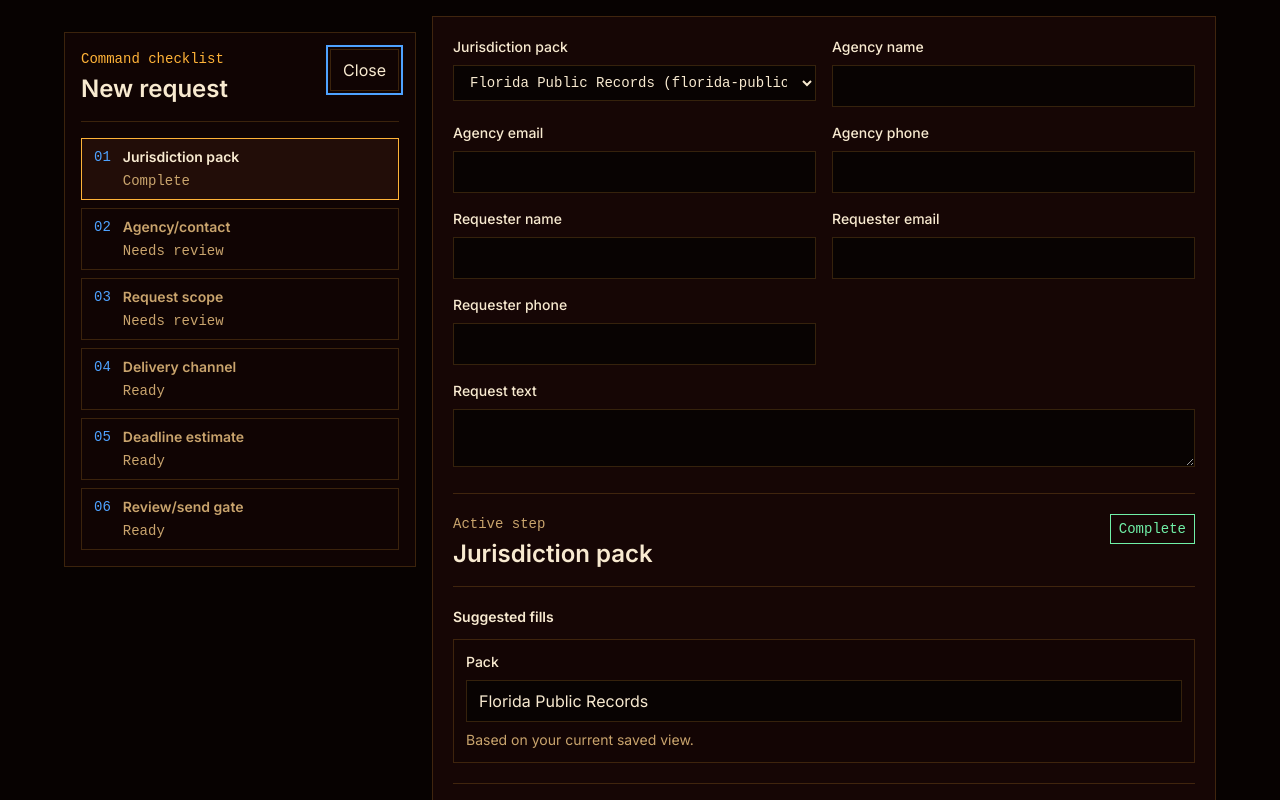
Scenario: RequestBuilder › keeps edited suggested fills when switching away from a step
Replace the text in the field named "Pack suggestion" with "US Federal FOIA": (824, 701) [466,680,1182,722]
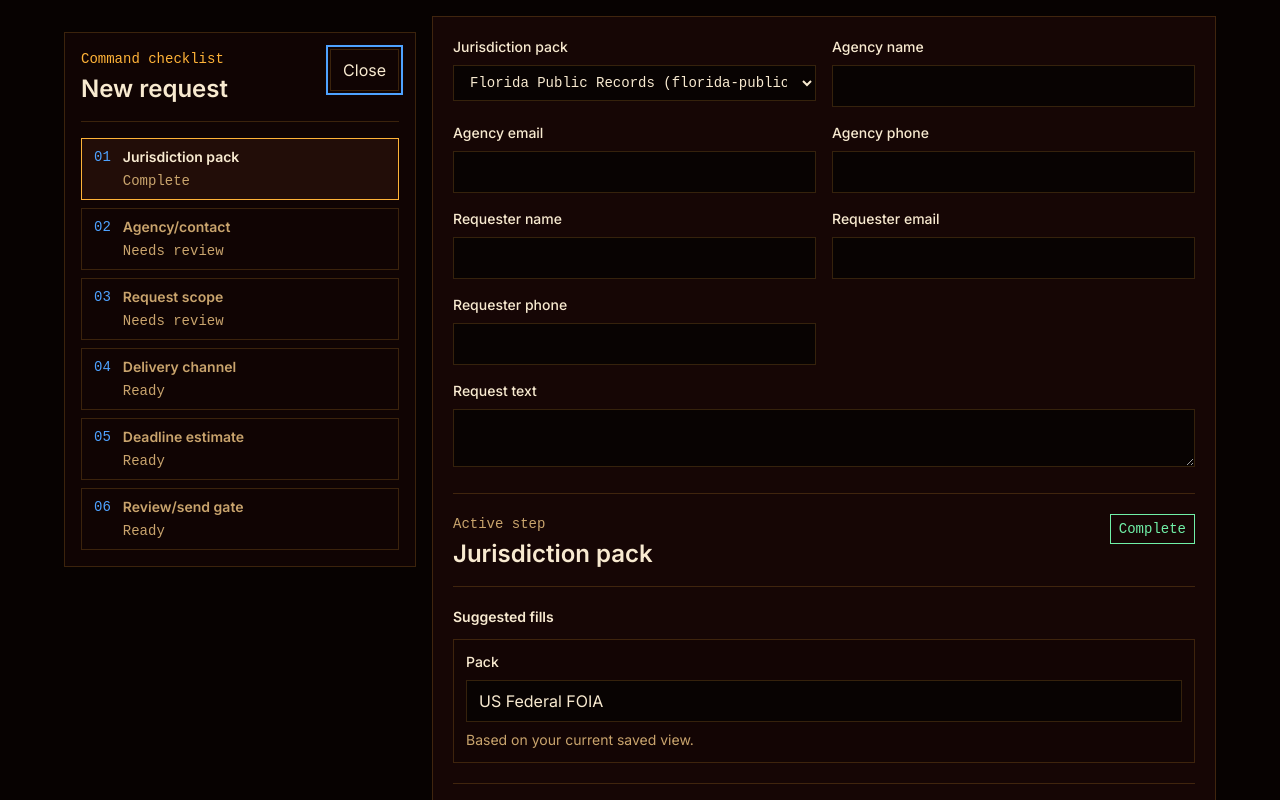
Click the button with aria-label "Open Agency/contact": (177, 226) [81,208,399,270]
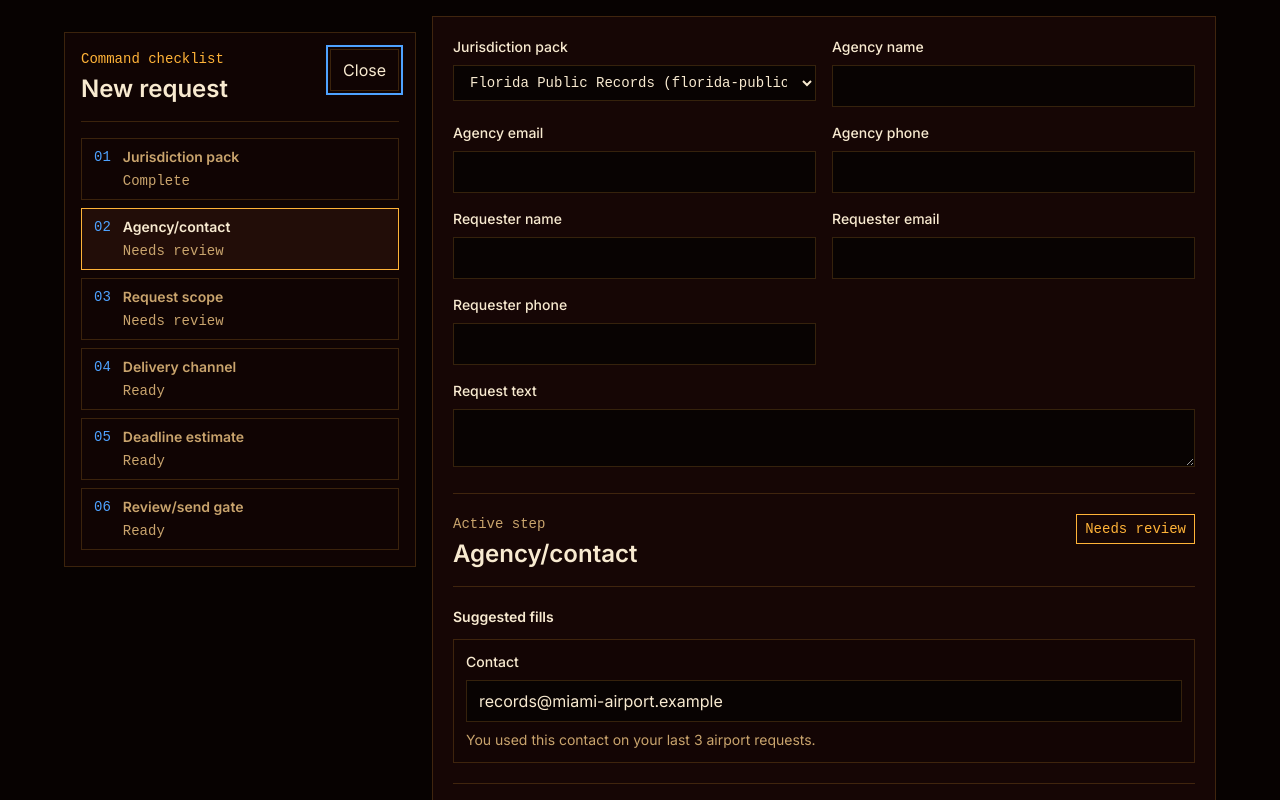
Click the button with aria-label "Open Jurisdiction pack": (181, 156) [81,138,399,200]
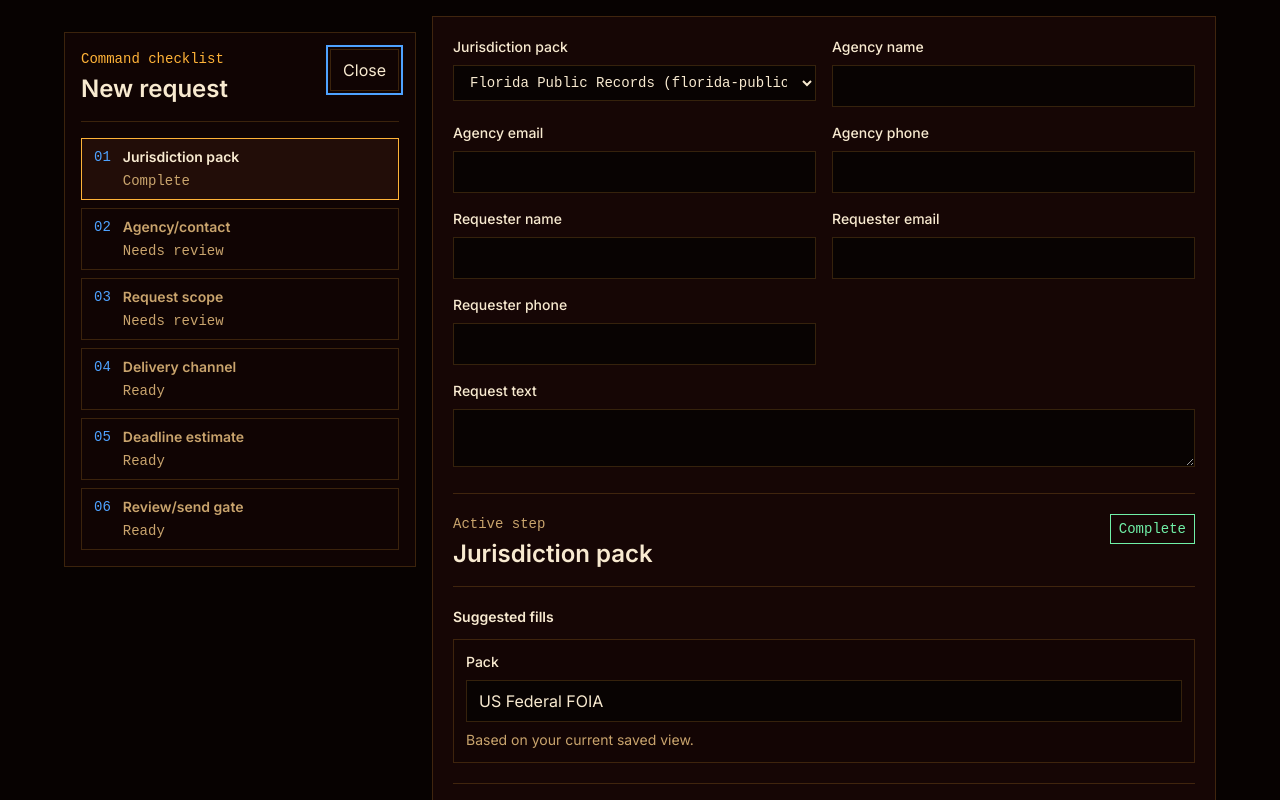
Result: the field showing "US Federal FOIA" is shown at [466,680,1182,722]
